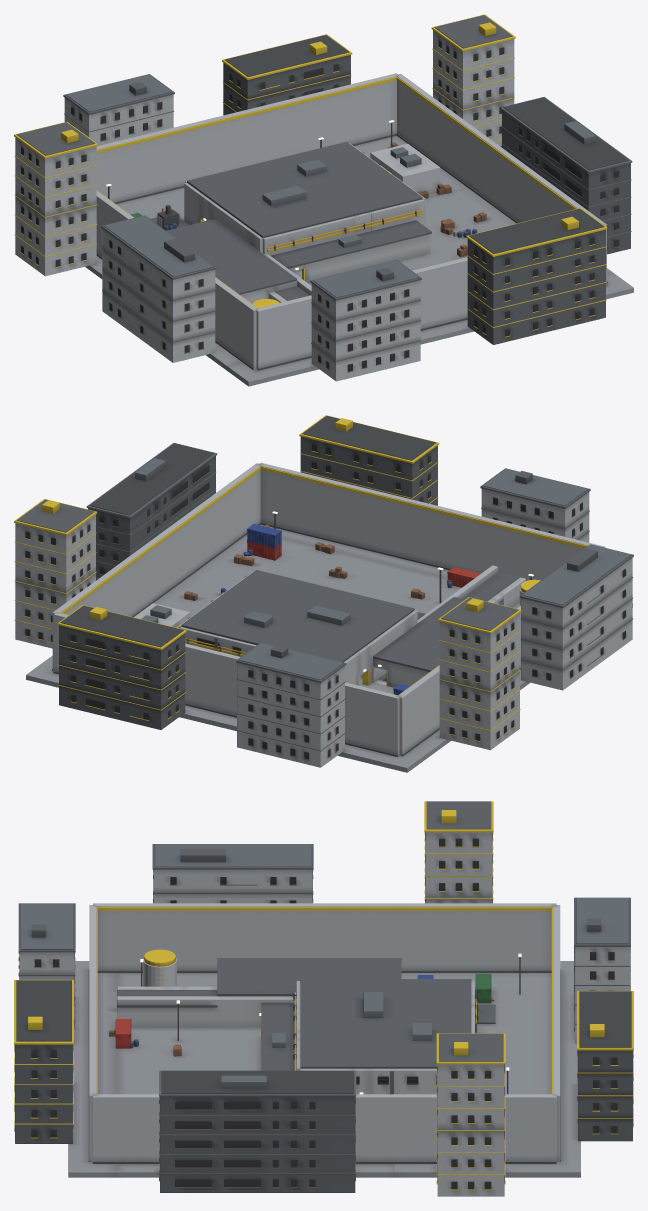
File: hd_nuke.glb
3 views of the same model, one above another, from view 1: azimuth 30°, elevation 25°; view 2: azimuth 150°, elevation 25°; view 3: azimuth 270°, elevation 25° (orthographic). The views are drawn at different scales.
Visible parts, largest first — view 1: Nuke_Horizon_concrete_wall_NonCol, Nuke_Horizon_concrete_dark_NonCol, Wall_Perimeter_N, SiteA_Roof_Deck, Wall_Perimeter_E, Nuke_Horizon_steel_dark_NonCol, Nuke_Horizon_steel_industrial_NonCol, Nuke_Horizon_hazard_black_NonCol, Wall_Perimeter_S, Nuke_Horizon_hazard_yellow_NonCol, SiteB_Roof, Terrain_Concrete_Ground_4 (+16 smaller); view 2: Nuke_Horizon_concrete_wall_NonCol, Nuke_Horizon_concrete_dark_NonCol, Wall_Perimeter_S, SiteA_Roof_Deck, Wall_Perimeter_E, Terrain_Concrete_Ground_4, Nuke_Horizon_steel_dark_NonCol, Nuke_Horizon_steel_industrial_NonCol, Nuke_Horizon_hazard_black_NonCol, Wall_Perimeter_N, Nuke_Horizon_hazard_yellow_NonCol, Terrain_Concrete_Ground_1 (+15 smaller); view 3: Nuke_Horizon_concrete_dark_NonCol, Wall_Perimeter_W, Nuke_Horizon_concrete_wall_NonCol, Wall_Perimeter_E, SiteA_Roof_Deck, Terrain_Concrete_Ground_1, Nuke_Horizon_steel_industrial_NonCol, Nuke_Horizon_steel_dark_NonCol, Terrain_Concrete_Ground_4, Nuke_Horizon_hazard_black_NonCol, Terrain_Concrete_Ground_0, Nuke_Horizon_hazard_yellow_NonCol (+12 smaller).
Part boxes in pixels (x1,y1,x2,y2): Nuke_Horizon_concrete_wall_NonCol: (15,30,514,381); Nuke_Horizon_concrete_dark_NonCol: (16,15,630,372); Wall_Perimeter_N: (96,73,398,202); SiteA_Roof_Deck: (187,141,422,237); Wall_Perimeter_E: (396,74,606,283); Nuke_Horizon_steel_dark_NonCol: (224,35,629,253); Nuke_Horizon_steel_industrial_NonCol: (66,74,632,297); Nuke_Horizon_hazard_black_NonCol: (21,40,619,371); Wall_Perimeter_S: (256,257,467,369); Nuke_Horizon_hazard_yellow_NonCol: (14,14,607,337); SiteB_Roof: (166,219,296,294); Terrain_Concrete_Ground_4: (293,187,611,285); Nuke_Horizon_concrete_wall_NonCol: (15,488,632,767); Nuke_Horizon_concrete_dark_NonCol: (16,436,633,760); Wall_Perimeter_S: (258,462,605,580); SiteA_Roof_Deck: (181,570,414,662); Wall_Perimeter_E: (52,463,261,671); Terrain_Concrete_Ground_4: (153,534,461,676); Nuke_Horizon_steel_dark_NonCol: (60,415,436,647); Nuke_Horizon_steel_industrial_NonCol: (86,443,631,679); Nuke_Horizon_hazard_black_NonCol: (25,444,625,759); Wall_Perimeter_N: (53,612,400,756); Nuke_Horizon_hazard_yellow_NonCol: (14,415,521,741); Terrain_Concrete_Ground_1: (26,655,450,772); Nuke_Horizon_concrete_dark_NonCol: (15,801,632,1192); Wall_Perimeter_W: (93,903,556,970); Nuke_Horizon_concrete_wall_NonCol: (19,832,629,1196); Wall_Perimeter_E: (93,1094,556,1161); SiteA_Roof_Deck: (300,979,471,1068); Terrain_Concrete_Ground_1: (394,961,580,1177); Nuke_Horizon_steel_industrial_NonCol: (21,844,628,1187); Nuke_Horizon_steel_dark_NonCol: (16,980,631,1093); Terrain_Concrete_Ground_4: (117,1027,394,1177); Nuke_Horizon_hazard_black_NonCol: (14,832,633,1189); Terrain_Concrete_Ground_0: (68,961,117,1177); Nuke_Horizon_hazard_yellow_NonCol: (14,801,633,1190).
Size of what is drawn, in the model's own units: 304 by 92.21 by 305.
